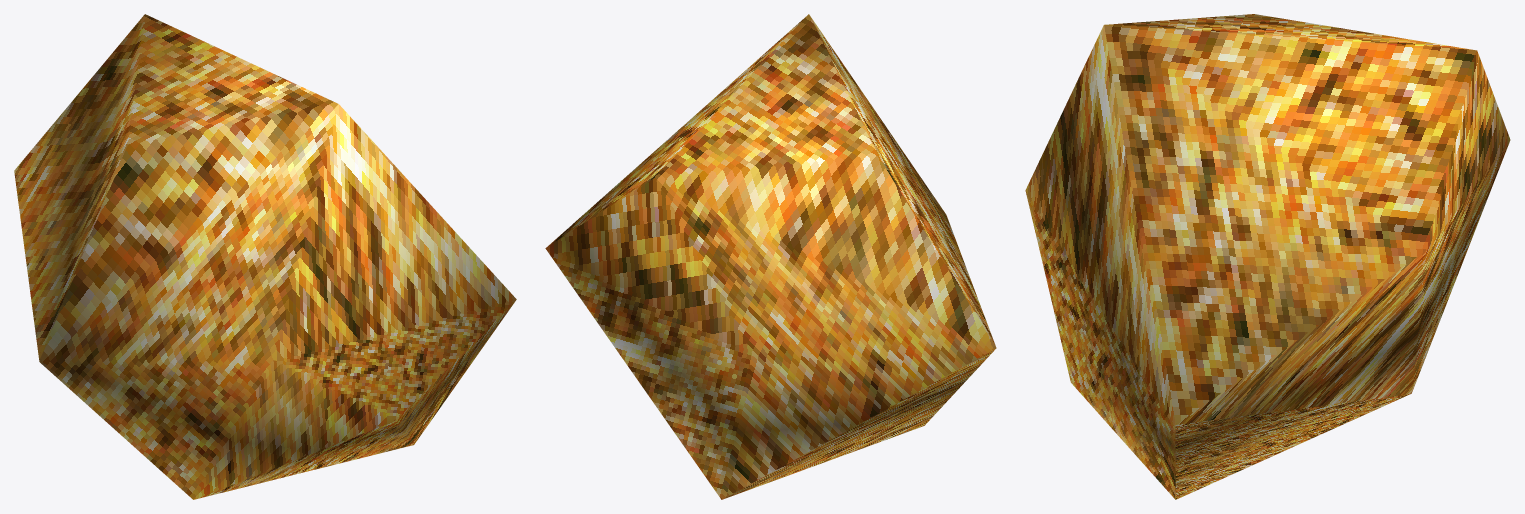
The model's file is Gold.FBX.
3 views of the same model, side by side, from view 1: azimuth 30°, elevation 25°; view 2: azimuth 150°, elevation 25°; view 3: azimuth 270°, elevation 25° (orthographic). The views are drawn at different scales.
Visible parts, largest first — view 1: gold; view 2: gold; view 3: gold.
Part boxes in pixels (x1,y1,x2,y2): gold: [14, 14, 516, 499]; gold: [545, 14, 996, 499]; gold: [1025, 14, 1510, 499].
Bounding box in the file's own units: 56.75 × 46.62 × 48.97.
